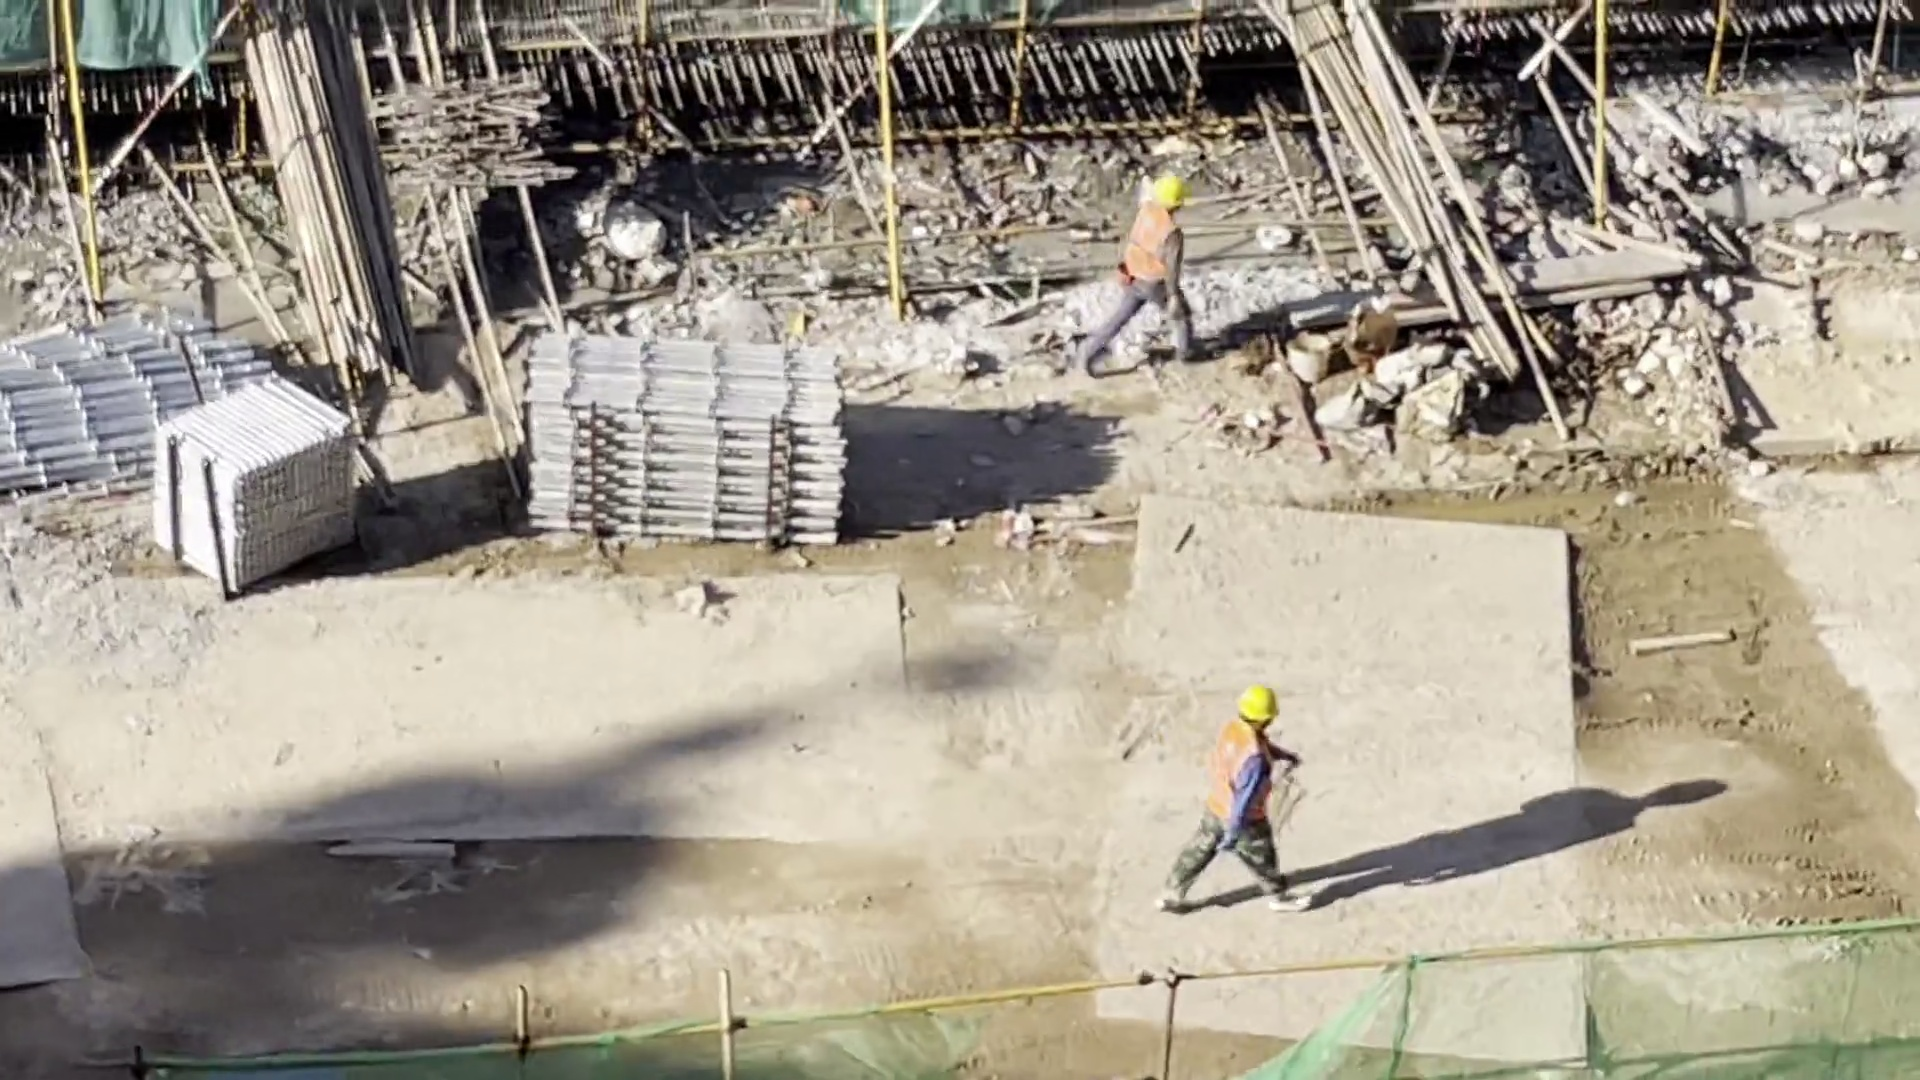helmet: (1233, 675, 1282, 731), (1151, 171, 1195, 219)
person: (1147, 661, 1332, 924), (1082, 149, 1206, 387)
scaffold: (511, 314, 863, 593), (124, 360, 378, 605), (1, 311, 261, 508)
vest: (1203, 727, 1269, 839), (1117, 201, 1191, 287)
